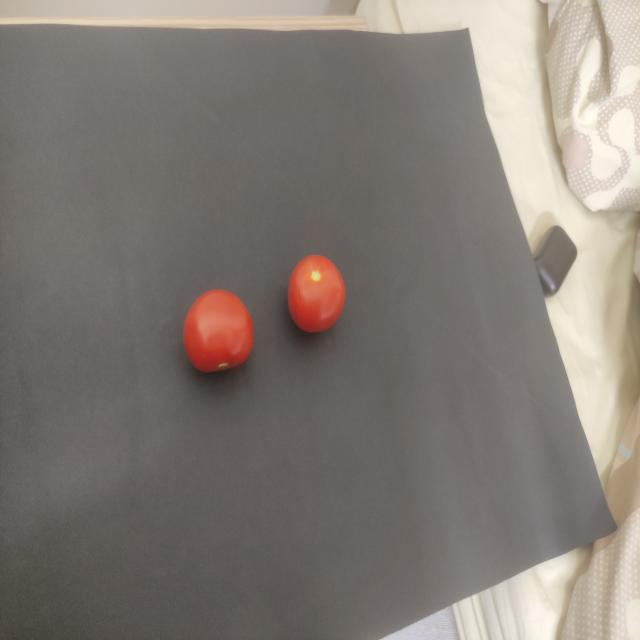kirmizi: (176, 269, 268, 395), (280, 236, 358, 370)
